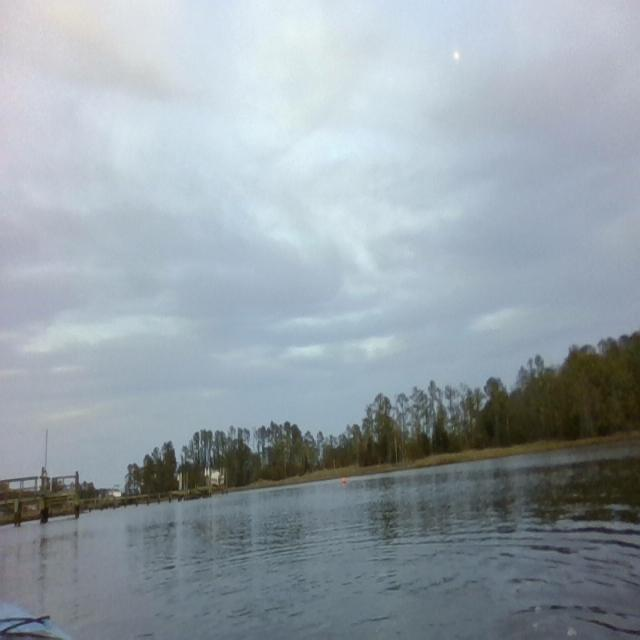Buoy: (339, 473, 348, 488)
